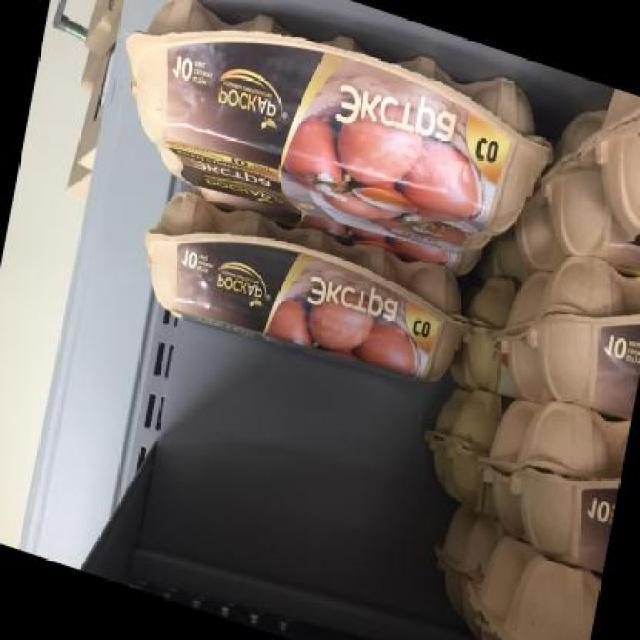Egg: (103, 0, 559, 298), (126, 168, 480, 411), (504, 384, 632, 583), (536, 243, 640, 425), (572, 84, 640, 258), (491, 552, 602, 640)
